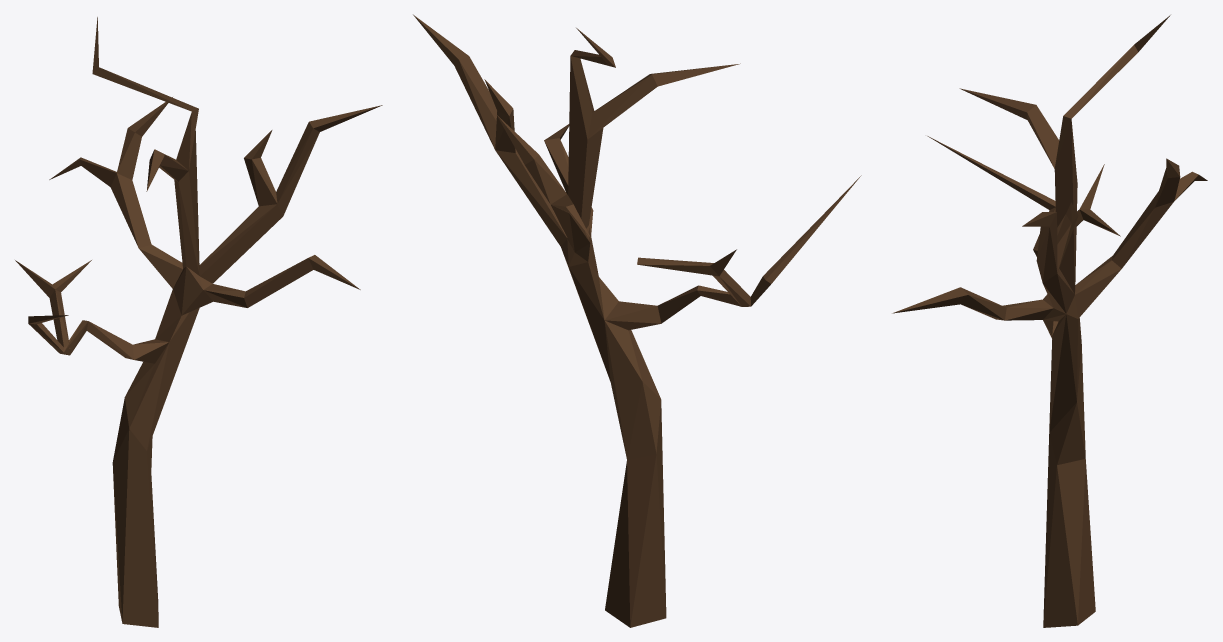
File: AGAC1.fbx
3 renders of one model, left to right at view 1: azimuth 30°, elevation 25°; view 2: azimuth 150°, elevation 25°; view 3: azimuth 270°, elevation 25°, orthographic. The views are drawn at different scales.
Visible parts, largest first — view 1: Vert; view 2: Vert; view 3: Vert.
Boxes of the visible parts, <box> form: Vert: <box>15,17,382,627</box>; Vert: <box>413,14,861,627</box>; Vert: <box>892,15,1207,627</box>.
Bounding box in the file's own units: 902 × 1368 × 641.
